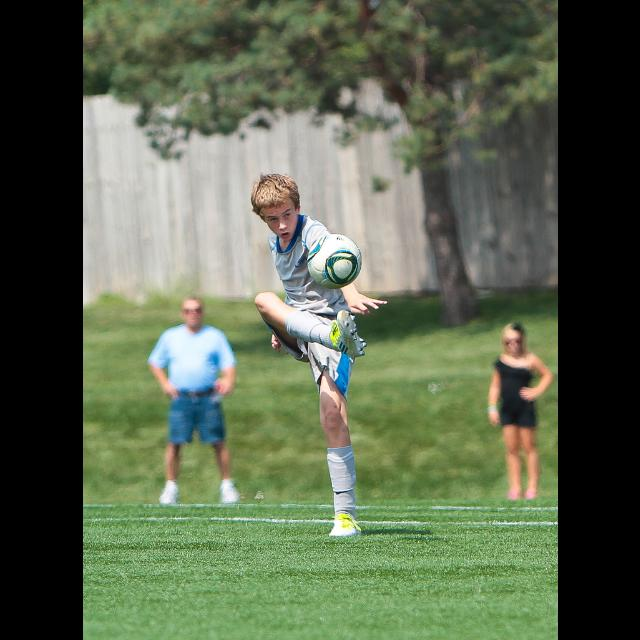Football: (301, 233, 361, 289)
